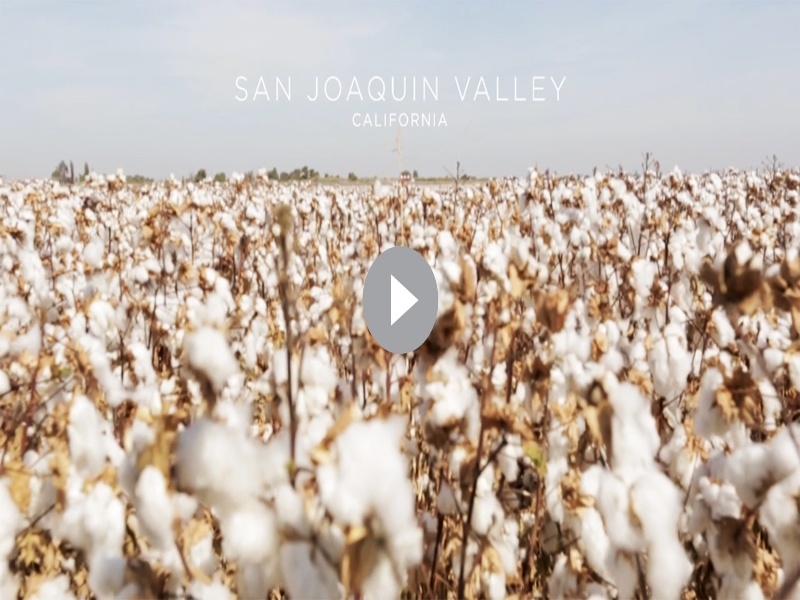cotton: (1, 180, 364, 593), (448, 173, 798, 595)
